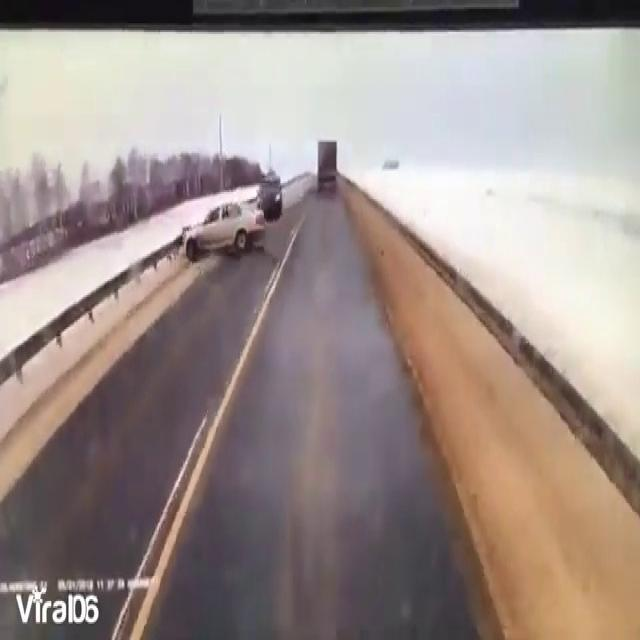moderate: (170, 188, 270, 266)
